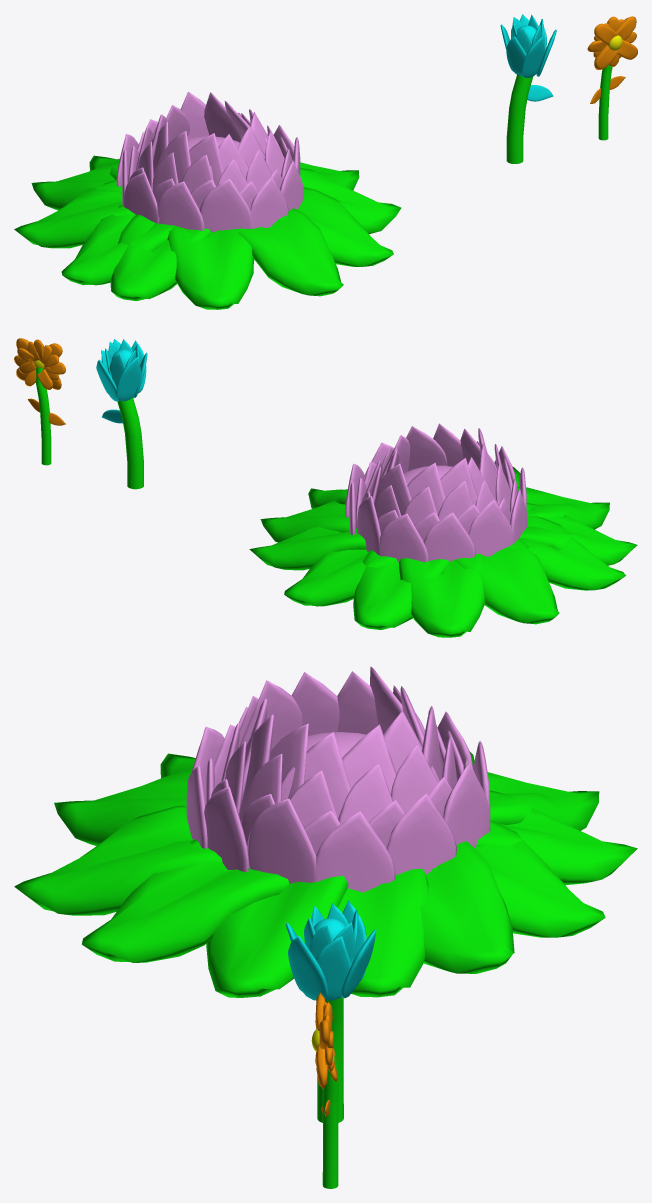
The model's file is Planta.fbx.
3 views of the same model, one above another, from view 1: azimuth 30°, elevation 25°; view 2: azimuth 150°, elevation 25°; view 3: azimuth 270°, elevation 25° (orthographic). The views are drawn at different scales.
Parts seen in each view (by area): view 1: polySurface98, polySurface163, polySurface129, polySurface118, polySurface119; view 2: polySurface98, polySurface163, polySurface129, polySurface120; view 3: polySurface98, polySurface163, polySurface117, polySurface122, polySurface129, polySurface121.
Boxes of the visible parts, x1,y1,x2,y2 form: polySurface98: (14, 91, 401, 309); polySurface163: (587, 16, 637, 140); polySurface129: (506, 74, 533, 163); polySurface118: (521, 36, 545, 77); polySurface119: (506, 36, 526, 75); polySurface98: (249, 423, 637, 637); polySurface163: (14, 338, 65, 465); polySurface129: (117, 397, 143, 489); polySurface120: (115, 357, 141, 401); polySurface98: (14, 666, 637, 997); polySurface163: (311, 993, 338, 1188); polySurface117: (288, 936, 328, 1000); polySurface122: (316, 936, 351, 1000); polySurface129: (317, 997, 343, 1122); polySurface121: (340, 929, 376, 998).
Size of the model in its own units: 5.82 by 1.32 by 3.36.
